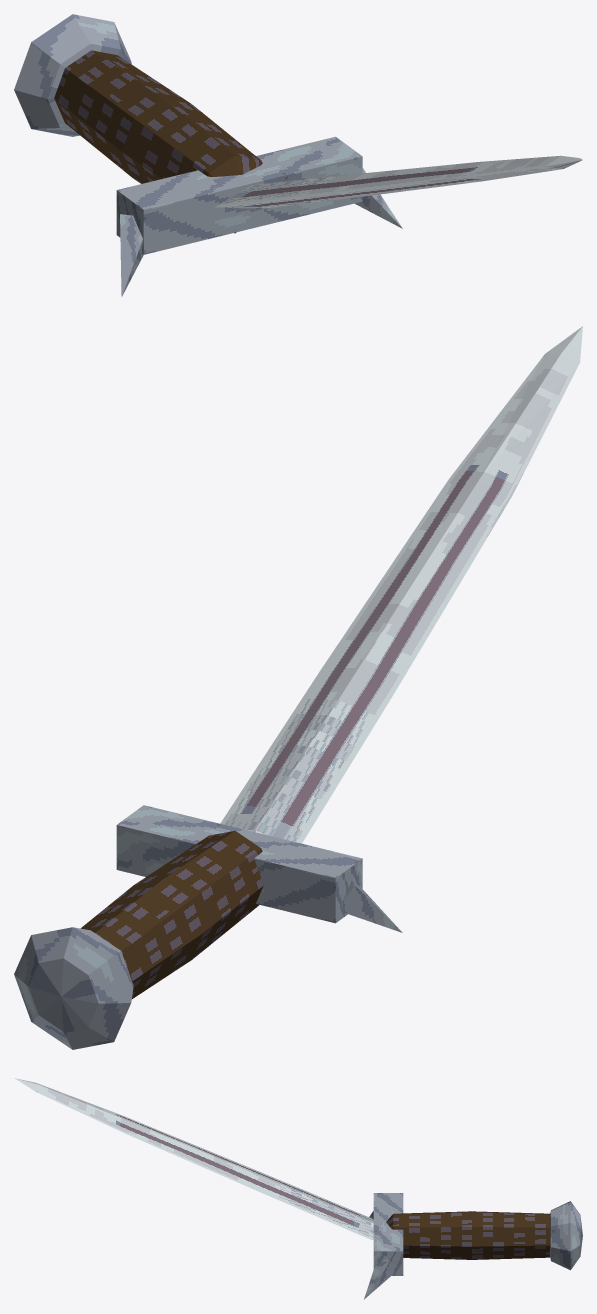
The model's file is blade.glb.
3 renders of one model, top to bottom at view 1: azimuth 30°, elevation 25°; view 2: azimuth 150°, elevation 25°; view 3: azimuth 270°, elevation 25°, orthographic. The views are drawn at different scales.
Parts seen in each view (by area): view 1: sword; view 2: sword; view 3: sword.
Part boxes in pixels (box(x1,y1,x2,y2)): sword: box(14, 14, 582, 296); sword: box(14, 326, 582, 1049); sword: box(14, 1078, 582, 1299).
Size of the model in its own units: 0.1296 by 0.1541 by 0.4158.
1 material, 1 textured.
